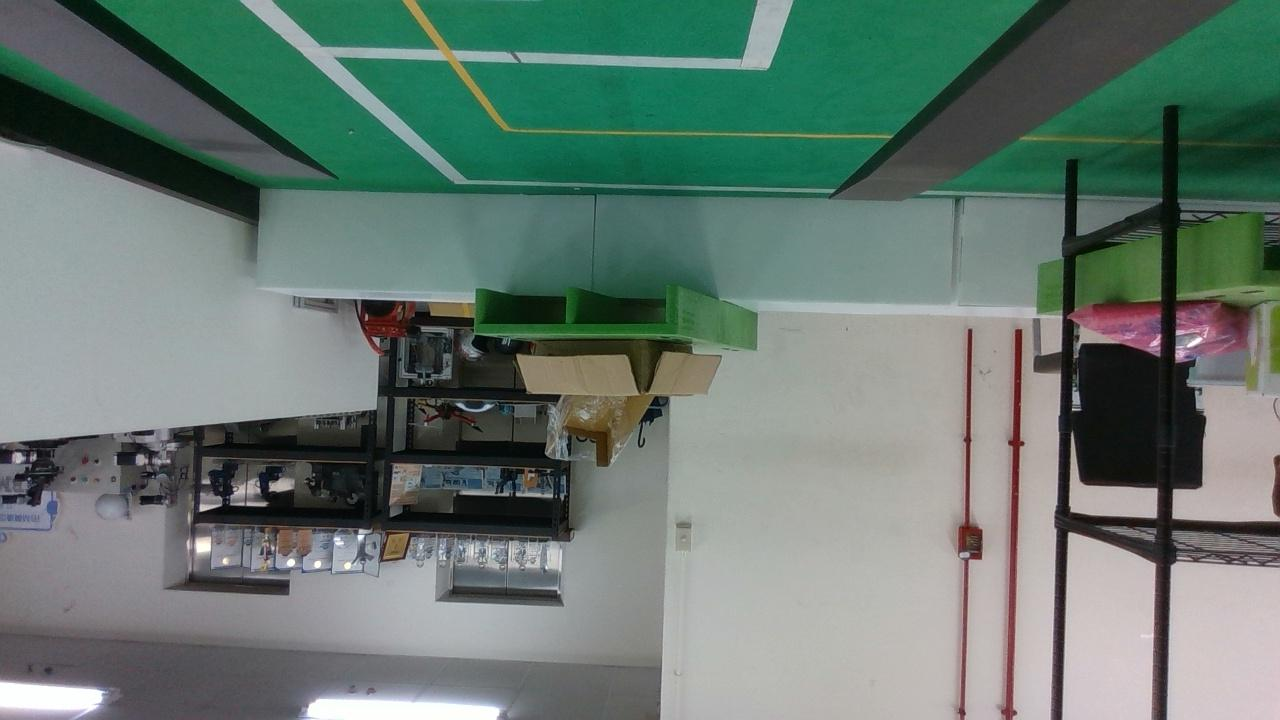Pallet: (463, 277, 689, 333)
